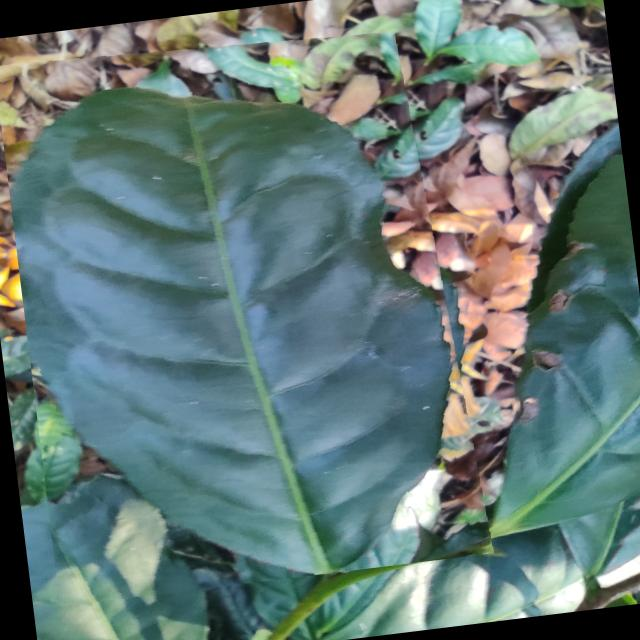Category D(7+ days, Not for Tea): (0, 9, 495, 604)
